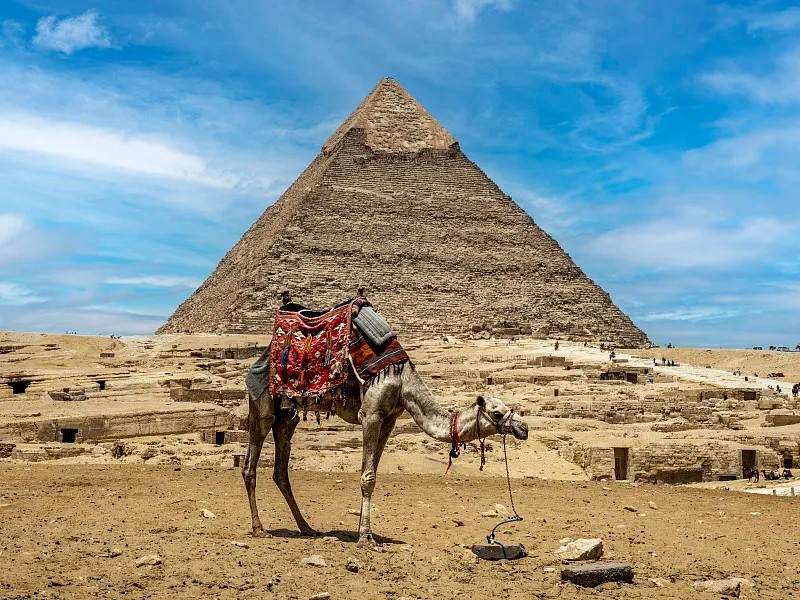Pyramid: (154, 76, 656, 347)
